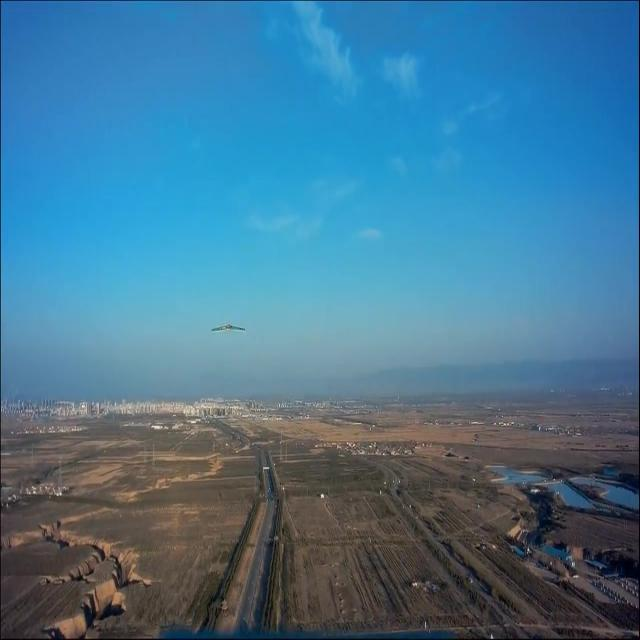iha: (211, 319, 246, 324)
